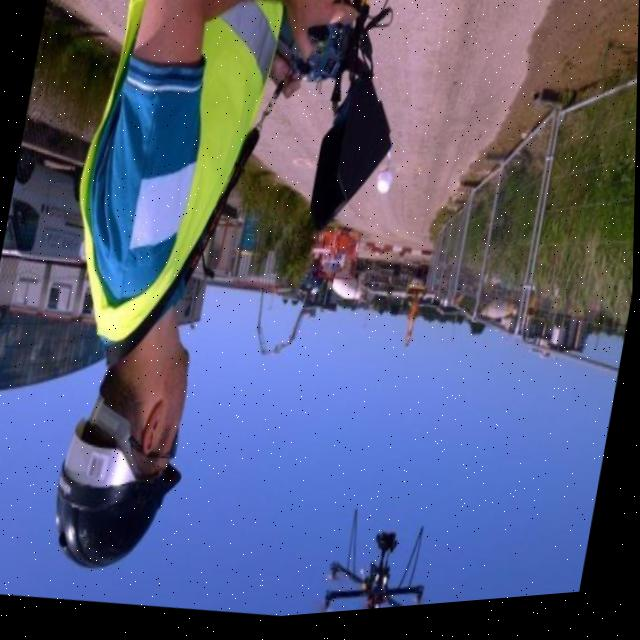drones: (306, 501, 462, 620)
